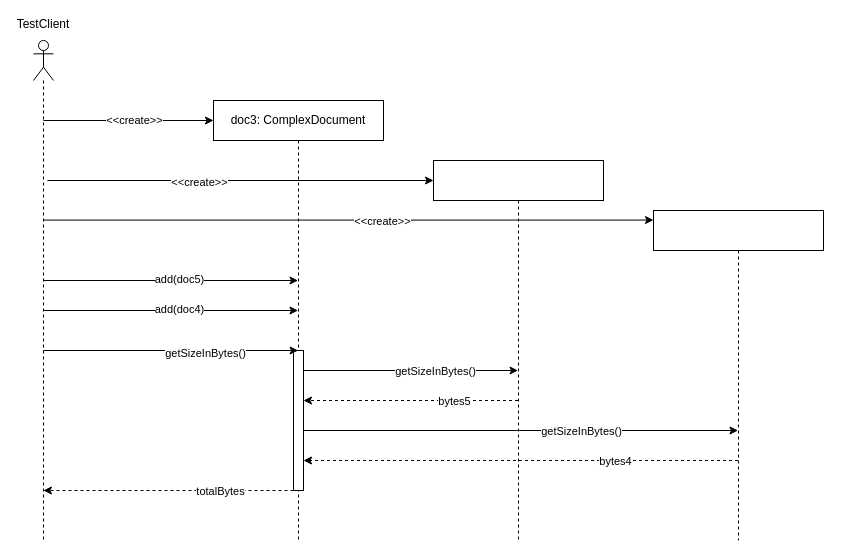
The diagram is 841 pixels wide and 558 high, and some of its shapes have lost their labels. The box of each missing label's shape, as (x1, y1, x2, y2) in pixels:
doc4: GraficDocument: (652, 210, 824, 540)
doc5: TextDocument: (432, 160, 604, 540)
